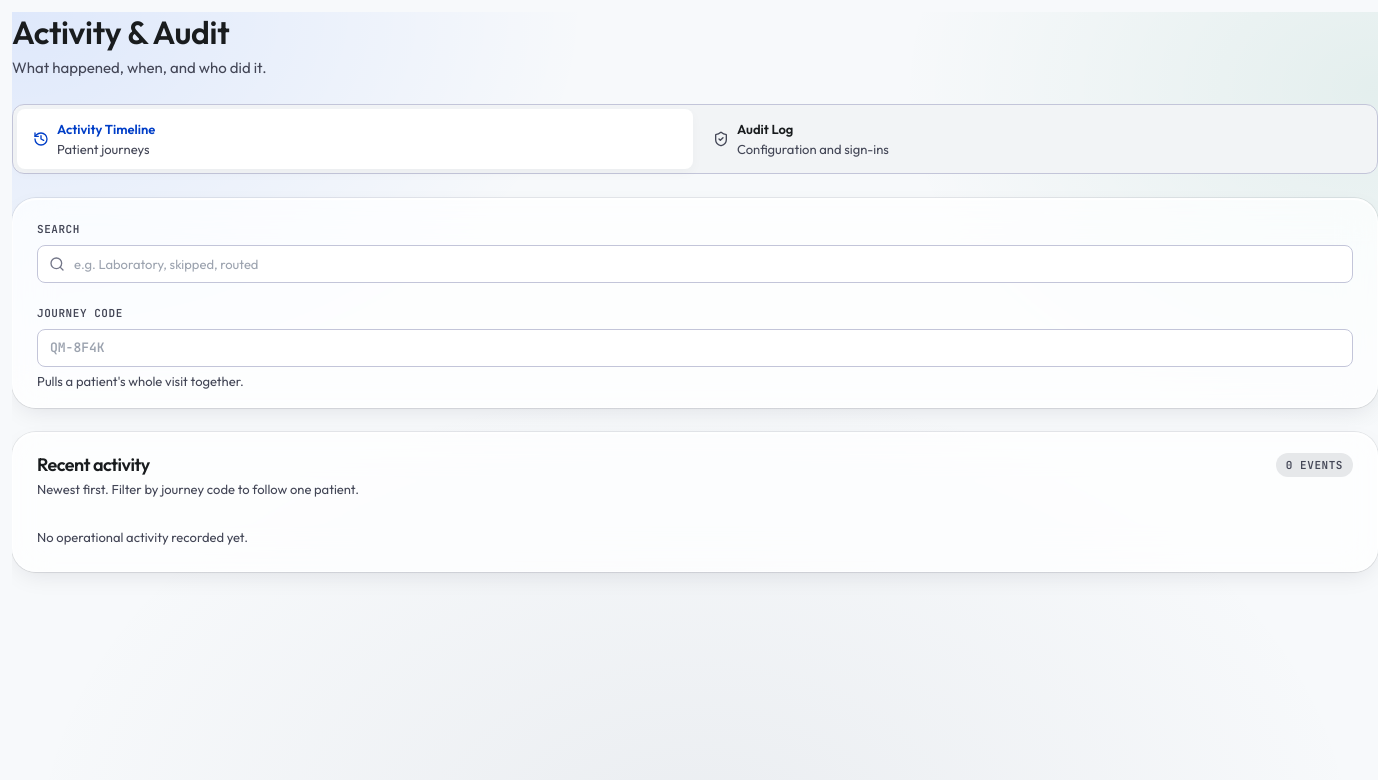
Audit Log › records a queue-numbering change distinctly from other station edits
The image size is (1378, 780).
Click the tab "Audit Log Configuration and sign-ins".
click(765, 129)  # box [697, 109, 1373, 169]
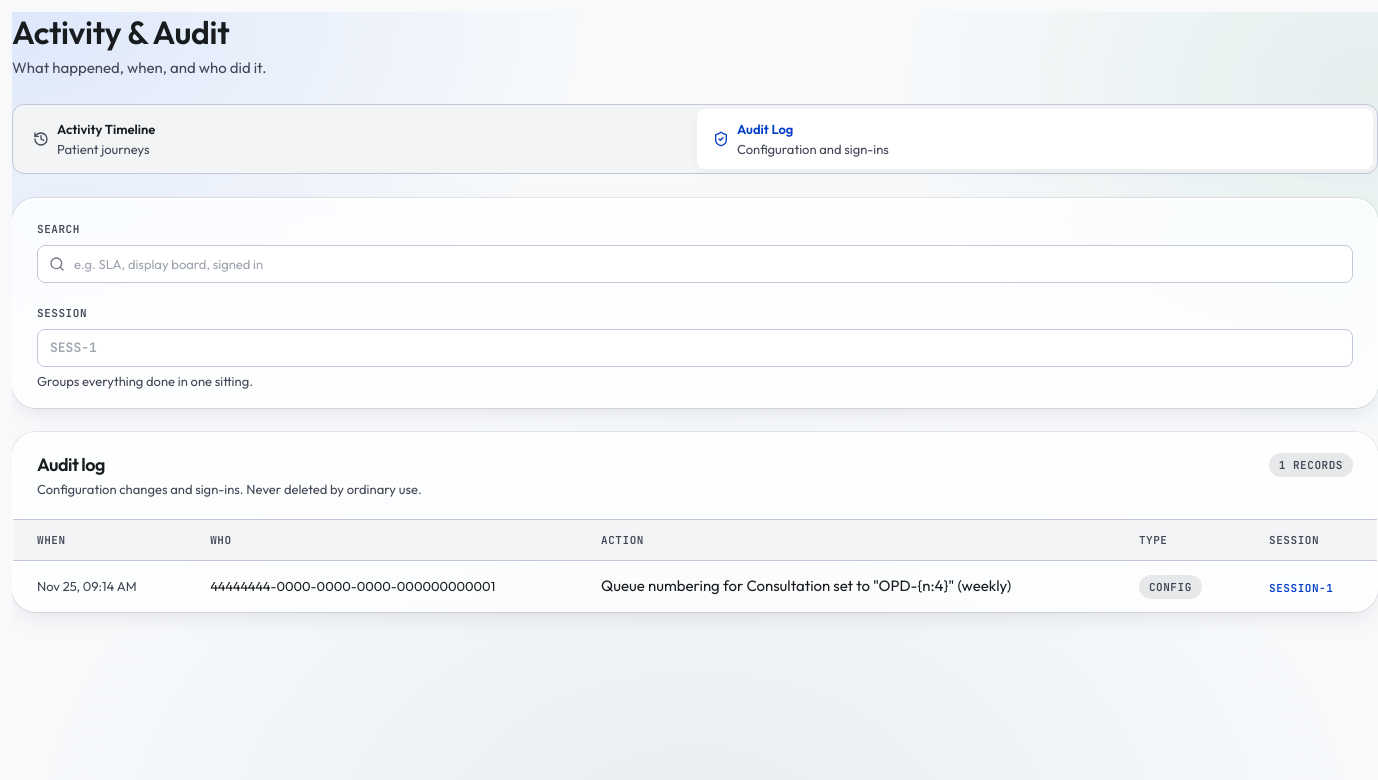
Expected: the text "Queue numbering for Consultation set to \"OPD-{n:4}\" (weekly)" is shown, [577, 560, 1115, 611]
